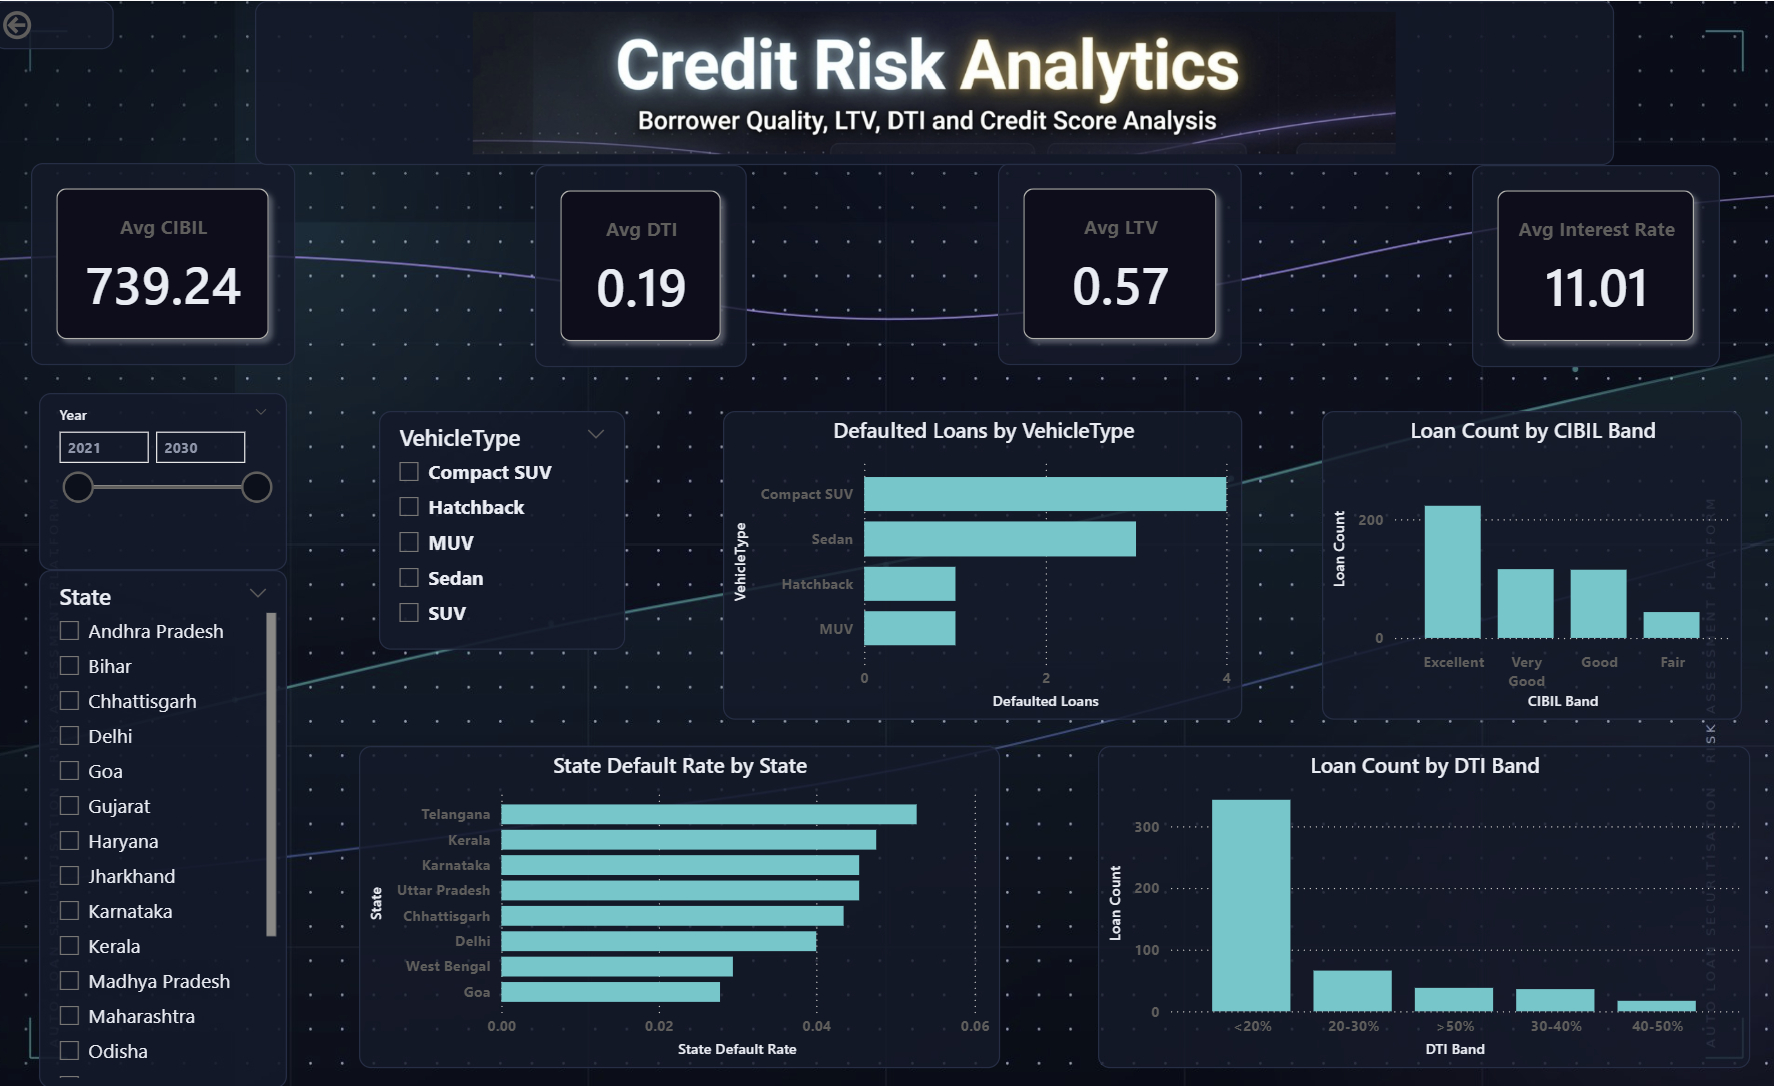

The page's visual inventory and layout, read from the dashboard file:
{"tool":"powerbi","page":{"name":"Page 2","canvas":[1480,900],"ordinal":1},"visuals":[{"type":"cardVisual","fields":{"Data":["auto_loan_securitisation_data.Avg CIBIL"]},"box":[31.5,134.3,218.8,167.4],"z":0},{"type":"cardVisual","fields":{"Data":["auto_loan_securitisation_data.Avg LTV"]},"box":[832,134.3,202.2,167.4],"z":1000},{"type":"cardVisual","fields":{"Data":["auto_loan_securitisation_data.Avg Interest Rate"]},"box":[1224.9,135.9,205.5,167.4],"z":2000},{"type":"cardVisual","fields":{"Data":["auto_loan_securitisation_data.Avg DTI"]},"box":[449.2,135.9,175.7,167.4],"z":3000},{"type":"clusteredColumnChart","fields":{"Category":["auto_loan_securitisation_data.CIBIL Band"],"Y":["auto_loan_securitisation_data.Loan Count"]},"box":[1100.6,339.8,348.1,255.2],"z":4000},{"type":"clusteredColumnChart","fields":{"Category":["auto_loan_securitisation_data.DTI Band"],"Y":["auto_loan_securitisation_data.Loan Count"]},"box":[914.9,616.6,540.3,266.9],"z":5000},{"type":"barChart","fields":{"Category":["auto_loan_securitisation_data.VehicleType"],"Y":["DateTable.Defaulted Loans"]},"box":[605,339.8,429.3,255.2],"z":6000},{"type":"barChart","fields":{"Category":["auto_loan_securitisation_data.State"],"Y":["auto_loan_securitisation_data.State Default Rate"]},"box":[303.3,616.6,530.4,266.9],"z":7000},{"type":"slicer","fields":{"Values":["auto_loan_securitisation_data.VehicleType"]},"box":[319.9,339.8,203.9,197.2],"z":8000},{"type":"slicer","fields":{"Values":["auto_loan_securitisation_data.State"]},"box":[38.1,470.7,205.5,429.3],"z":9000},{"type":"slicer","fields":{"Values":["DateTable.Year"]},"box":[38.1,324.9,205.5,145.9],"z":10000},{"type":"image","box":[217.1,0,1125.4,135.9],"z":11000},{"type":"actionButton","box":[0,0,100,40],"z":12000}]}

Visuals, with their boxes in screenshot pixels (x1, y1, x2, y2), scaled from the page's 1480x900 canvas onto the 1774x1086 screenshot:
cardVisual - auto_loan_securitisation_data.Avg CIBIL: x1=38 y1=162 x2=300 y2=364
cardVisual - auto_loan_securitisation_data.Avg LTV: x1=997 y1=162 x2=1240 y2=364
cardVisual - auto_loan_securitisation_data.Avg Interest Rate: x1=1468 y1=164 x2=1715 y2=366
cardVisual - auto_loan_securitisation_data.Avg DTI: x1=538 y1=164 x2=749 y2=366
clusteredColumnChart - auto_loan_securitisation_data.CIBIL Band x auto_loan_securitisation_data.Loan Count: x1=1319 y1=410 x2=1736 y2=718
clusteredColumnChart - auto_loan_securitisation_data.DTI Band x auto_loan_securitisation_data.Loan Count: x1=1097 y1=744 x2=1744 y2=1066
barChart - auto_loan_securitisation_data.VehicleType x DateTable.Defaulted Loans: x1=725 y1=410 x2=1240 y2=718
barChart - auto_loan_securitisation_data.State x auto_loan_securitisation_data.State Default Rate: x1=364 y1=744 x2=999 y2=1066
slicer - auto_loan_securitisation_data.VehicleType: x1=383 y1=410 x2=628 y2=648
slicer - auto_loan_securitisation_data.State: x1=46 y1=568 x2=292 y2=1085
slicer - DateTable.Year: x1=46 y1=392 x2=292 y2=568
image: x1=260 y1=0 x2=1609 y2=164
actionButton: x1=0 y1=0 x2=120 y2=48
